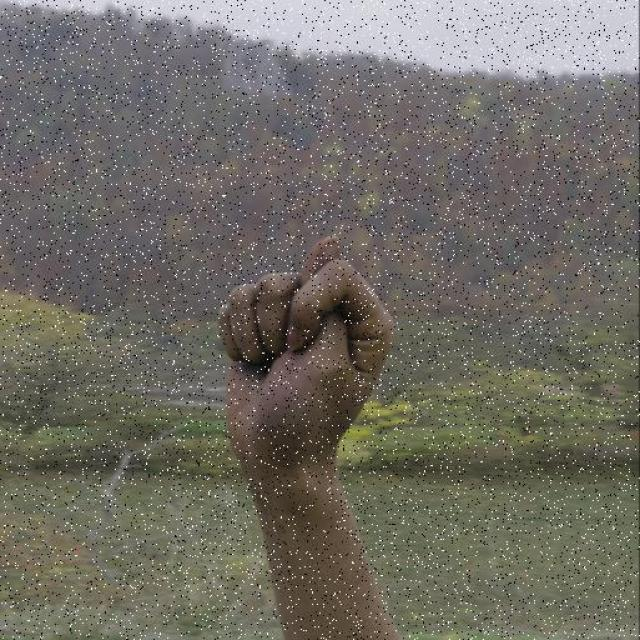T: (209, 228, 396, 516)
